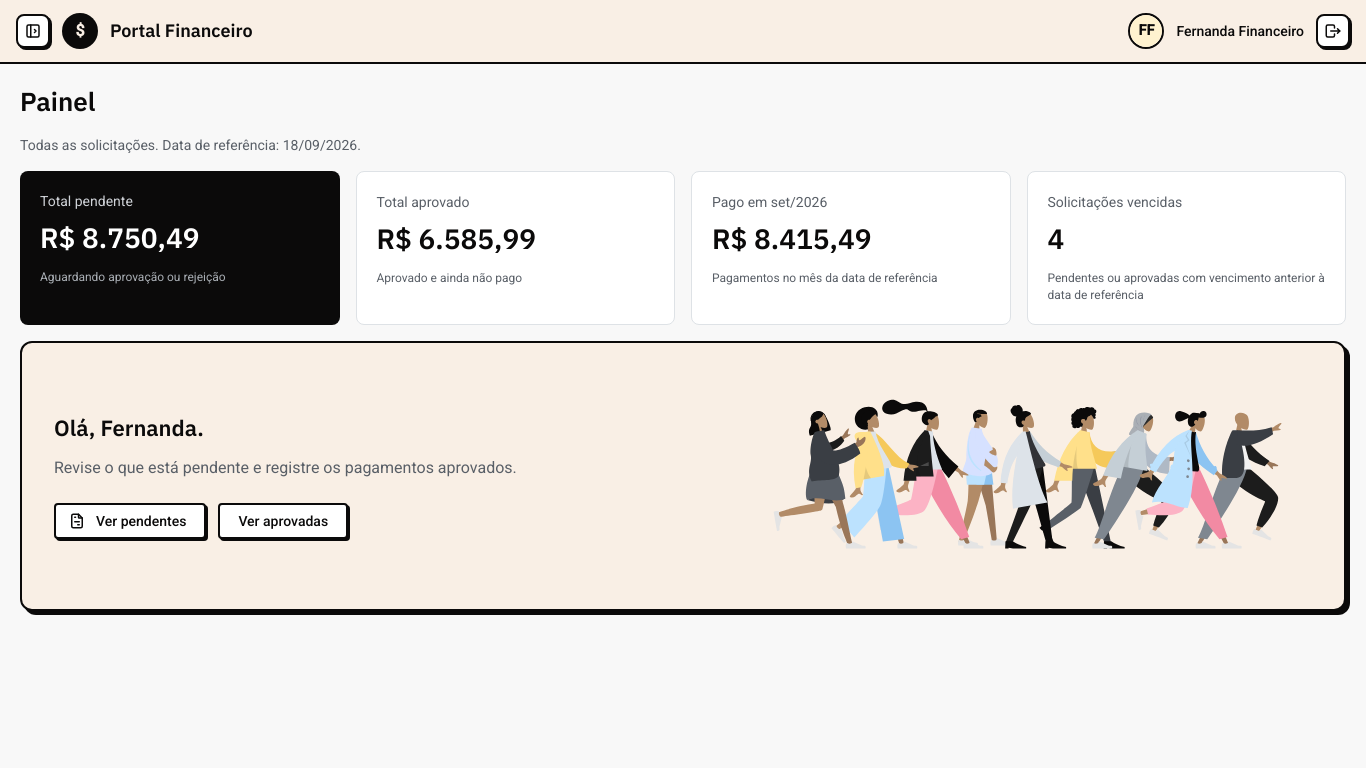
protected routes and session › with a session, shows the layout with the role menu
Check: the text "Fernanda Financeiro" is shown, box left=1176, top=21, right=1304, bottom=41
Click the button named "Abrir menu" at [33, 31], box left=16, top=14, right=50, bottom=48
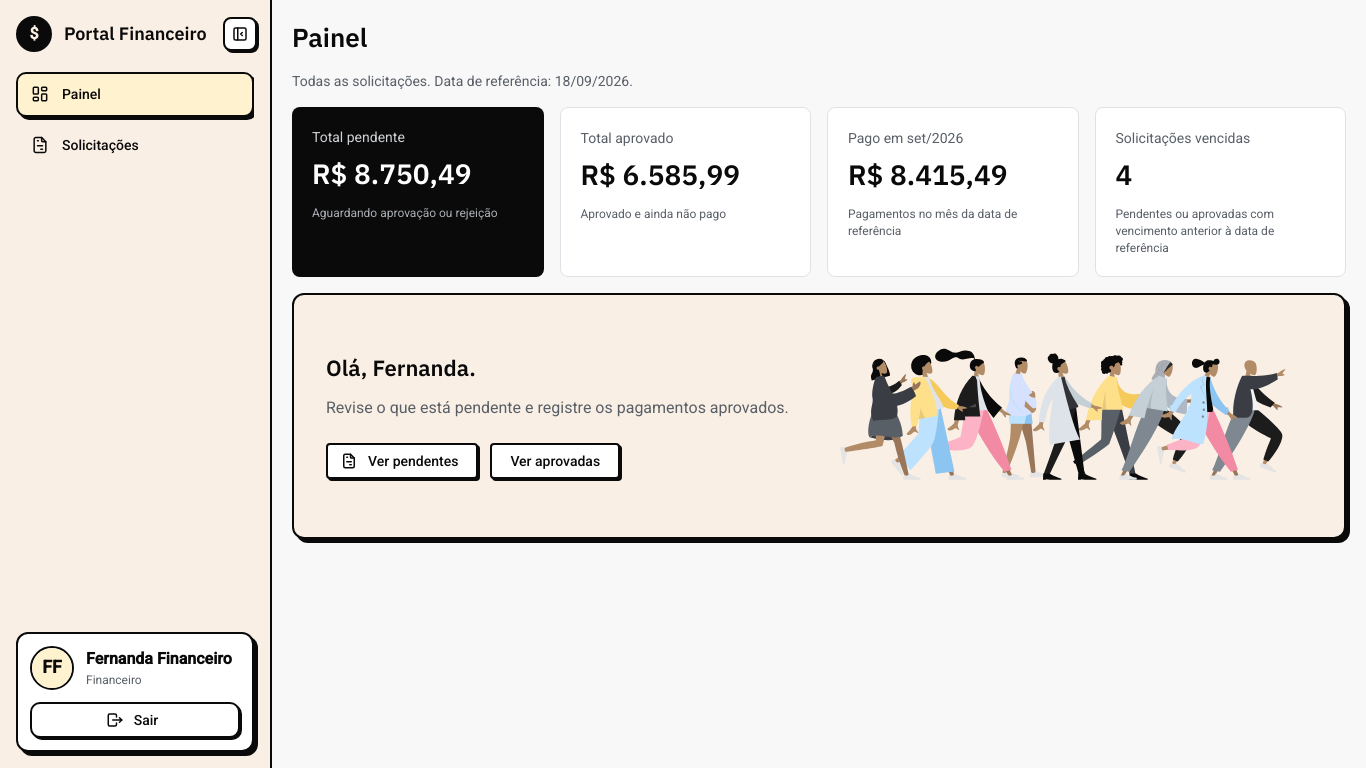
Check: the link "Solicitações" is shown, box left=30, top=135, right=139, bottom=155
